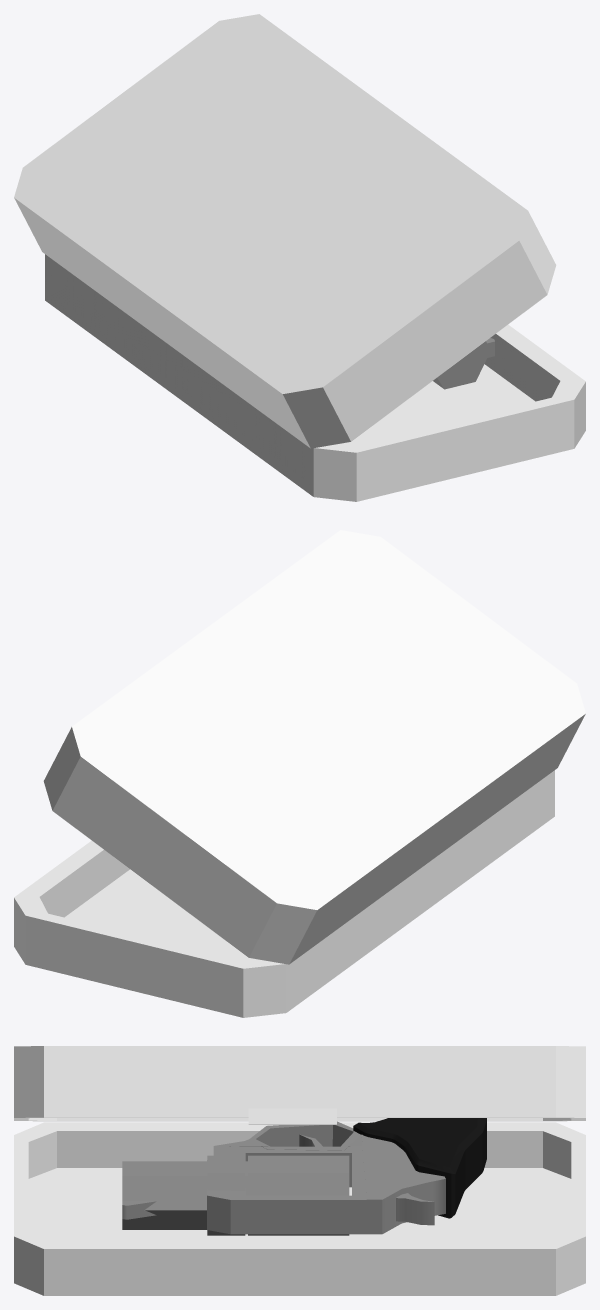
The model's file is gun_in_purse.fbx.
The picture shows the model from 3 angles, top to bottom: view 1: azimuth 30°, elevation 25°; view 2: azimuth 150°, elevation 25°; view 3: azimuth 270°, elevation 25°; orthographic projection. The views are drawn at different scales.
Visible parts, largest first — view 1: purse_side1, purse_side, handgun; view 2: purse_side1, purse_side; view 3: purse_side, purse_side1, handgun, clasp.
Part boxes in pixels (left/top/right/bottom): purse_side1: left=14, top=14, right=556, bottom=448; purse_side: left=45, top=254, right=585, bottom=501; handgun: left=433, top=338, right=494, bottom=389; purse_side1: left=43, top=530, right=585, bottom=964; purse_side: left=14, top=770, right=554, bottom=1017; purse_side: left=14, top=1122, right=585, bottom=1295; purse_side1: left=14, top=1046, right=585, bottom=1121; handgun: left=122, top=1118, right=486, bottom=1235; clasp: left=248, top=1108, right=336, bottom=1124.
Bounding box in the file's own units: 13.04 × 9.62 × 22.35.
